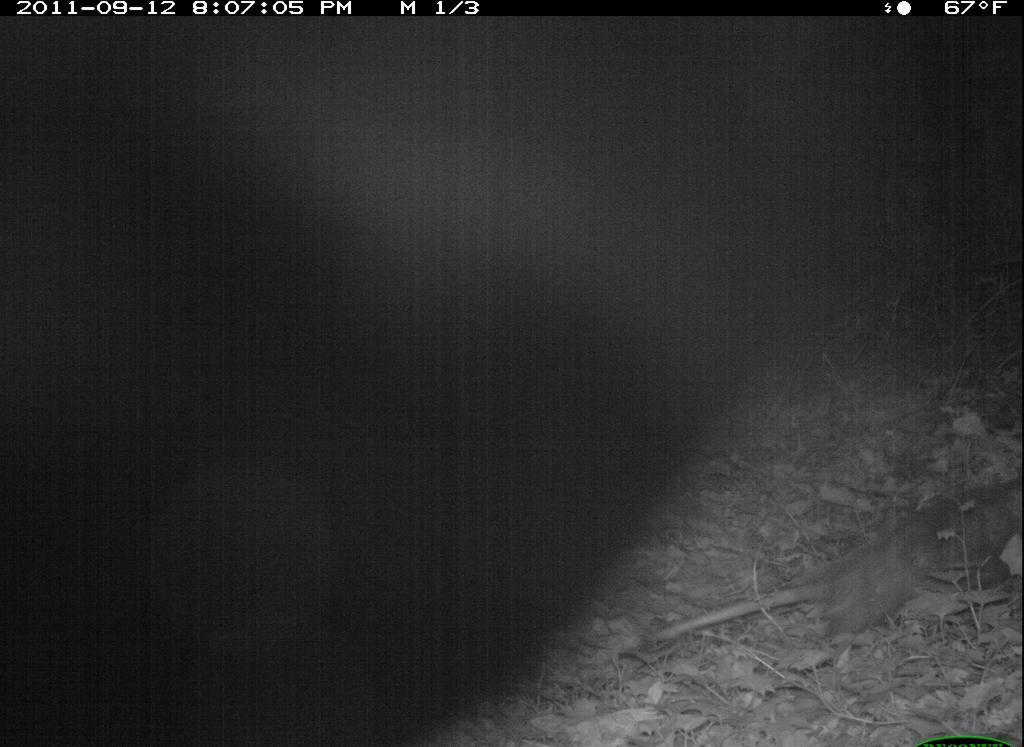opossum: (667, 483, 959, 638)
